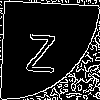Z: (24, 25, 57, 73)
